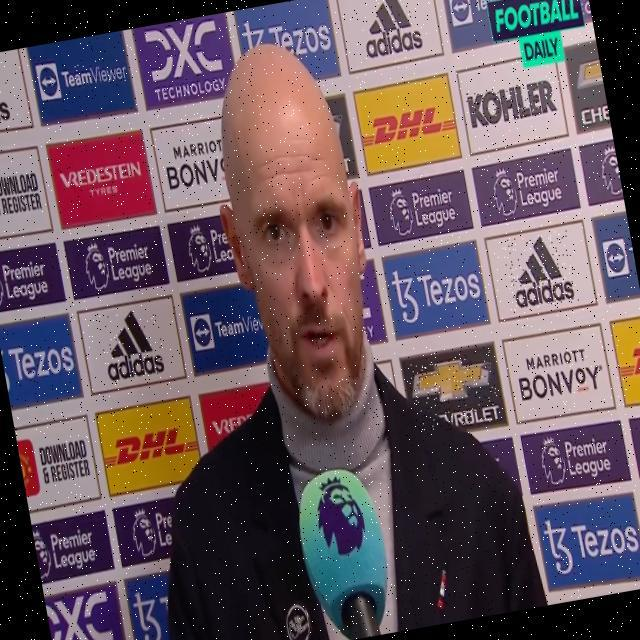Adidas: (501, 228, 579, 313), (98, 305, 169, 383), (355, 0, 424, 61), (0, 51, 14, 131)
Chevrolet: (406, 350, 502, 436)
Kohler: (465, 78, 558, 127)
TeamViewer: (36, 50, 130, 100)
